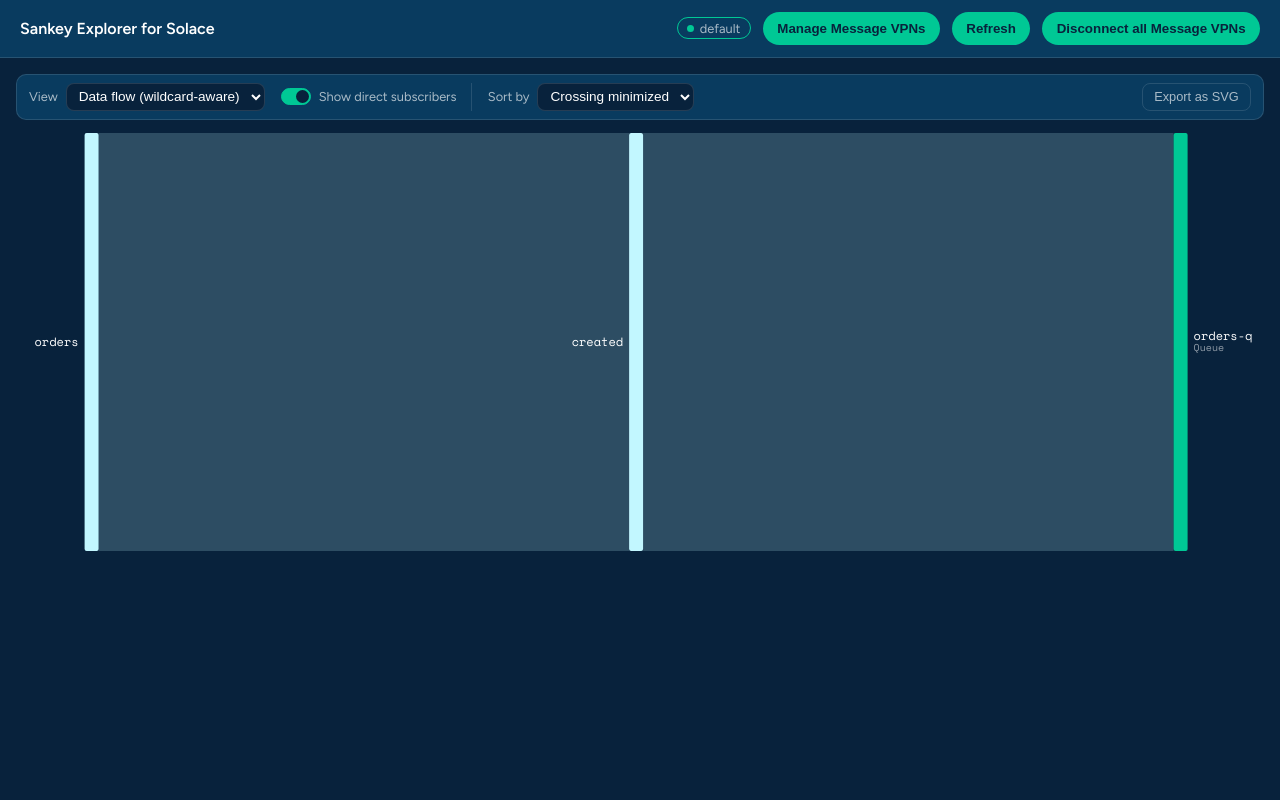
Test: App - topbar actions once connected › 'Refresh' reloads endpoints and shows a banner if it fails
Expected: the text "orders-q" is shown, [1194,328,1252,344]
Step 1. Click the button "Refresh" → [991, 28], box [952,12,1030,45]
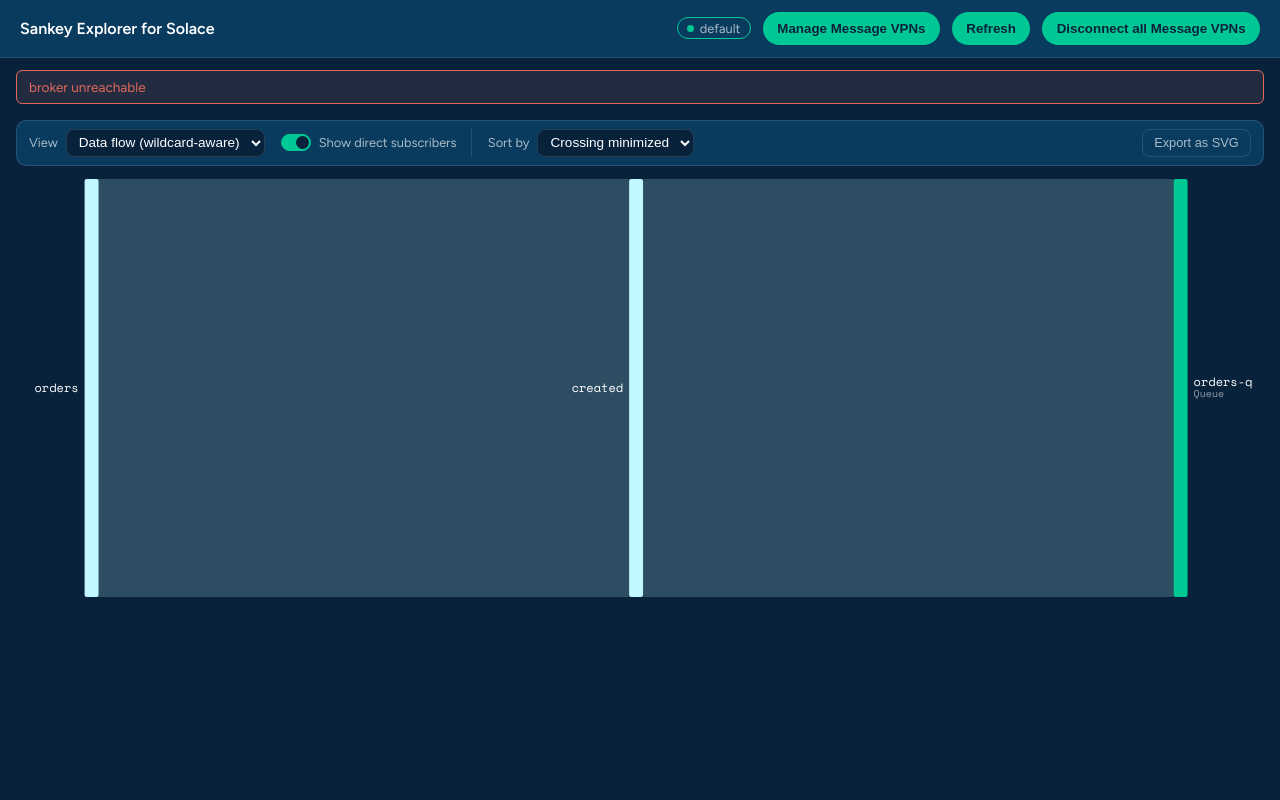
Expected: the text "orders-q" is shown, [1194,374,1252,390]
Result: the text "broker unreachable" is shown at [16,70,1264,104]
